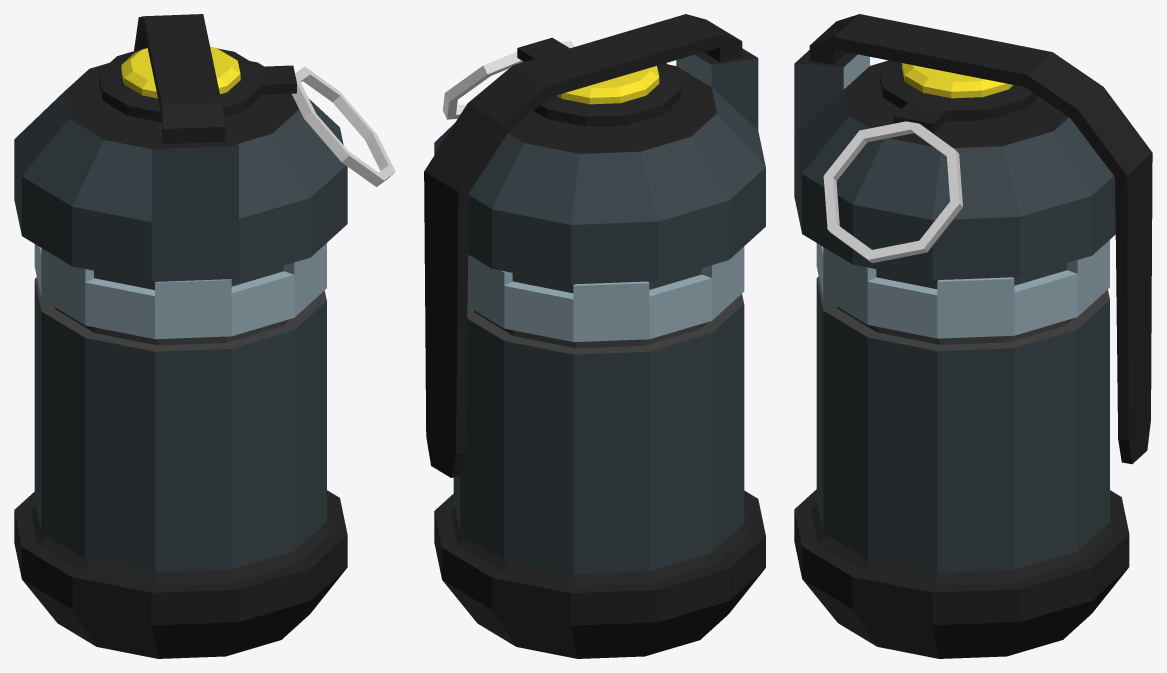
File: Grenade.fbx
3 views of the same model, side by side, from view 1: azimuth 30°, elevation 25°; view 2: azimuth 150°, elevation 25°; view 3: azimuth 270°, elevation 25° (orthographic).
Visible parts, largest first — view 1: Cylinder.001, Cylinder.002; view 2: Cylinder.001, Cylinder.002; view 3: Cylinder.001, Cylinder.002.
Part boxes in pixels (x1,y1,x2,y2): Cylinder.001: [14, 14, 347, 658]; Cylinder.002: [292, 66, 395, 186]; Cylinder.001: [424, 14, 765, 658]; Cylinder.002: [443, 41, 573, 119]; Cylinder.001: [794, 14, 1152, 658]; Cylinder.002: [823, 121, 962, 263].
Size of the model in its own units: 26.06 by 42.81 by 25.
